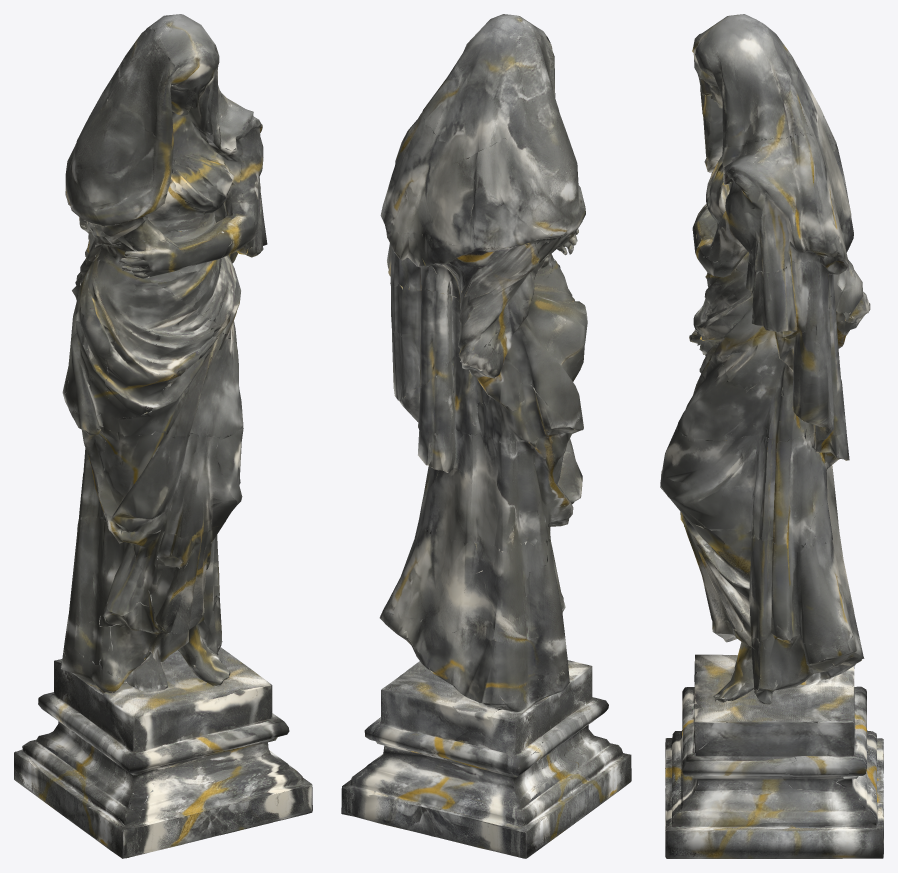
The model's file is foyer-veiled-waltz.glb.
The picture shows the model from 3 angles, left to right: view 1: azimuth 30°, elevation 25°; view 2: azimuth 150°, elevation 25°; view 3: azimuth 270°, elevation 25°; orthographic projection. The views are drawn at different scales.
Parts seen in each view (by area): view 1: foyer_veiled_waltz_Mesh_01; view 2: foyer_veiled_waltz_Mesh_01; view 3: foyer_veiled_waltz_Mesh_01.
Part boxes in pixels (bbox=[...]): foyer_veiled_waltz_Mesh_01: bbox=[14, 14, 312, 858]; foyer_veiled_waltz_Mesh_01: bbox=[341, 14, 631, 858]; foyer_veiled_waltz_Mesh_01: bbox=[660, 14, 883, 858].
Size of the model in its own units: 0.4619 by 1.78 by 0.4549.
1 material, 1 textured.
